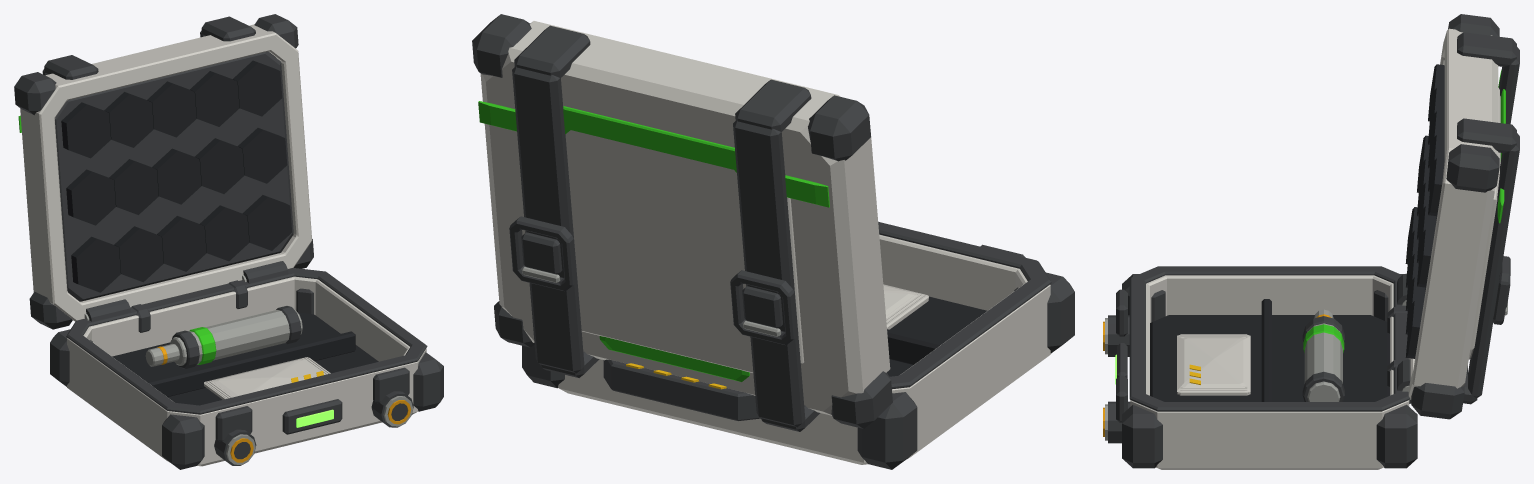
Rendered from 02_medkit_open.fbx.
The picture shows the model from 3 angles, left to right: view 1: azimuth 30°, elevation 25°; view 2: azimuth 150°, elevation 25°; view 3: azimuth 270°, elevation 25°; orthographic projection. The views are drawn at different scales.
Visible parts, largest first — view 1: 02_medkit_open; view 2: 02_medkit_open; view 3: 02_medkit_open.
Boxes of the visible parts, <box> form: 02_medkit_open: <box>14,14,443,469</box>; 02_medkit_open: <box>472,14,1074,469</box>; 02_medkit_open: <box>1103,14,1519,469</box>.
Size of the model in its own units: 23.17 by 23.2 by 27.41.
